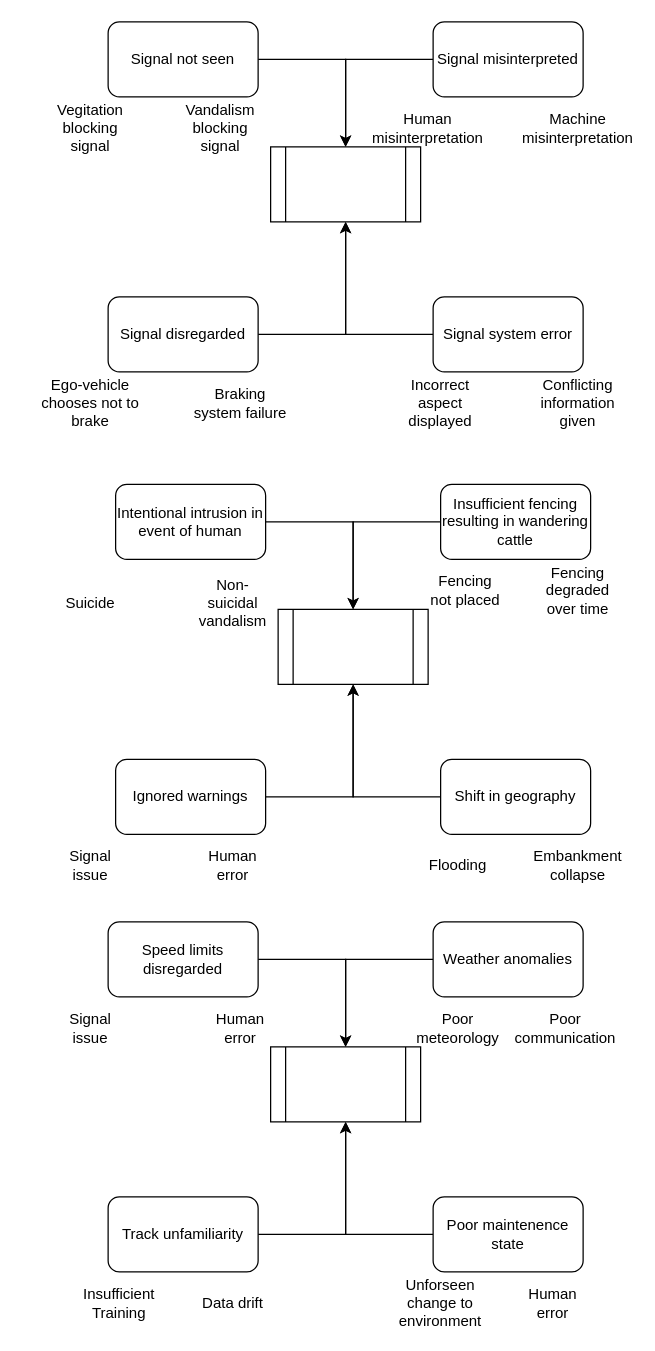
Image size: 655x1351. Some labels were removed from this diagram. Here are the shapes that lost their labels. From the top down, the box of each, then its label:
(269, 146, 421, 222): Signal Passed At Danger
(277, 608, 428, 684): Collision with Object on track
(269, 1046, 421, 1122): Junction Derailment
